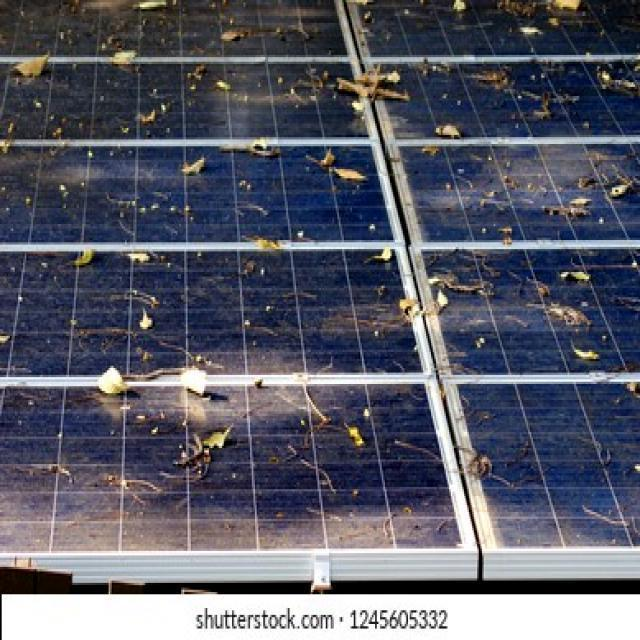soiled: (2, 1, 640, 594)
